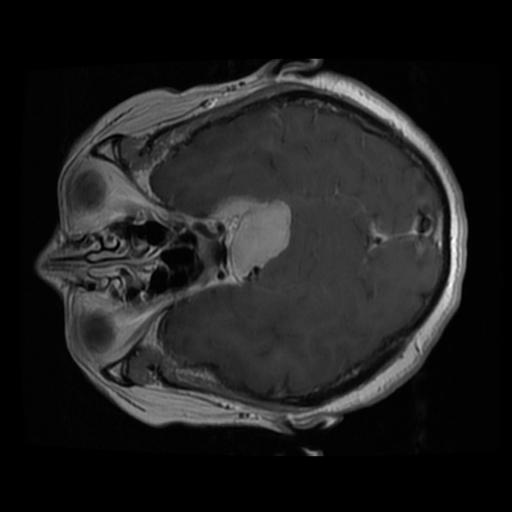meningioma: (213, 194, 290, 280)
